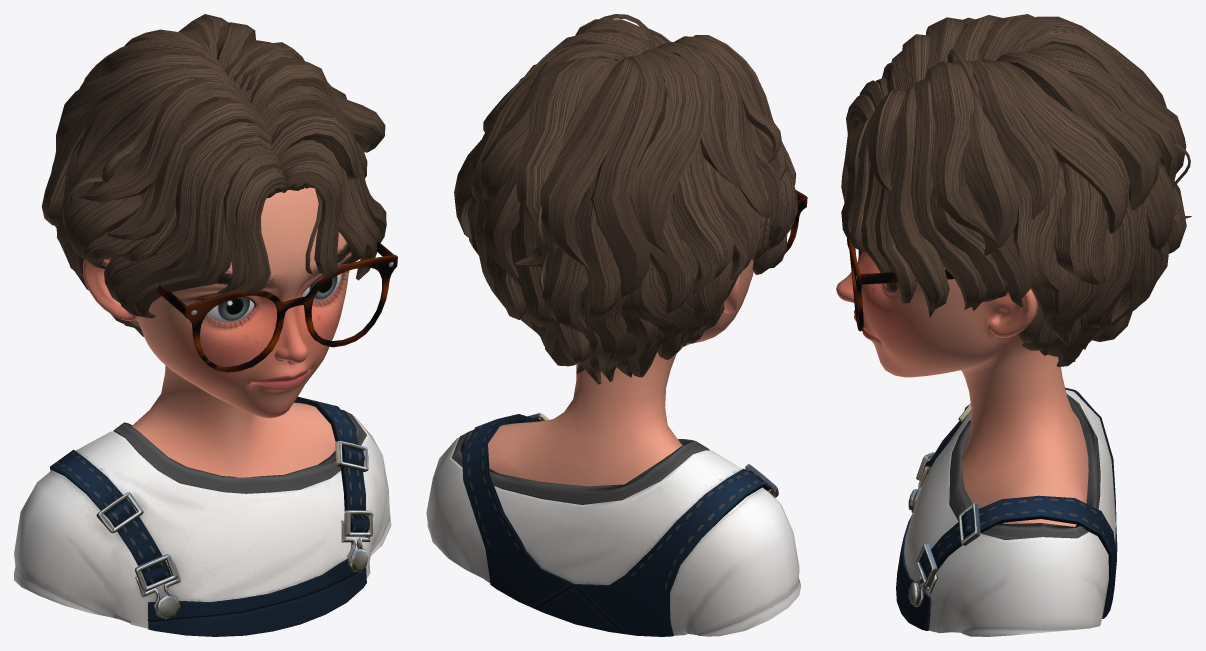
The model's file is ZEPETO_TORSO_3_clean2.glb.
3 views of the same model, side by side, from view 1: azimuth 30°, elevation 25°; view 2: azimuth 150°, elevation 25°; view 3: azimuth 270°, elevation 25° (orthographic).
Parts seen in each view (by area): view 1: ZEPETO_Torso; view 2: ZEPETO_Torso; view 3: ZEPETO_Torso.
Part boxes in pixels (box(x1,y1,x2,y2)): ZEPETO_Torso: box(14, 14, 397, 636); ZEPETO_Torso: box(426, 14, 807, 636); ZEPETO_Torso: box(836, 14, 1191, 636).
Bounding box in the file's own units: 7.56 × 11.12 × 6.49.
Materials: 6 (6 with a texture image).
